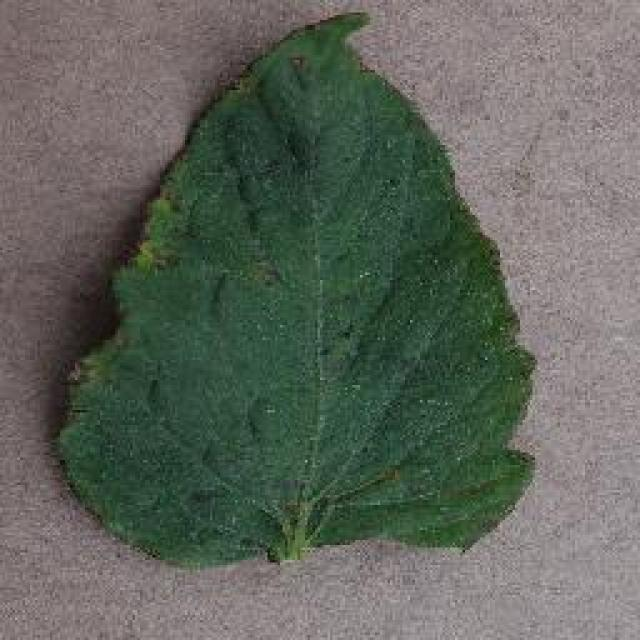Tomato bacterial spot leaf: (90, 15, 558, 610)
